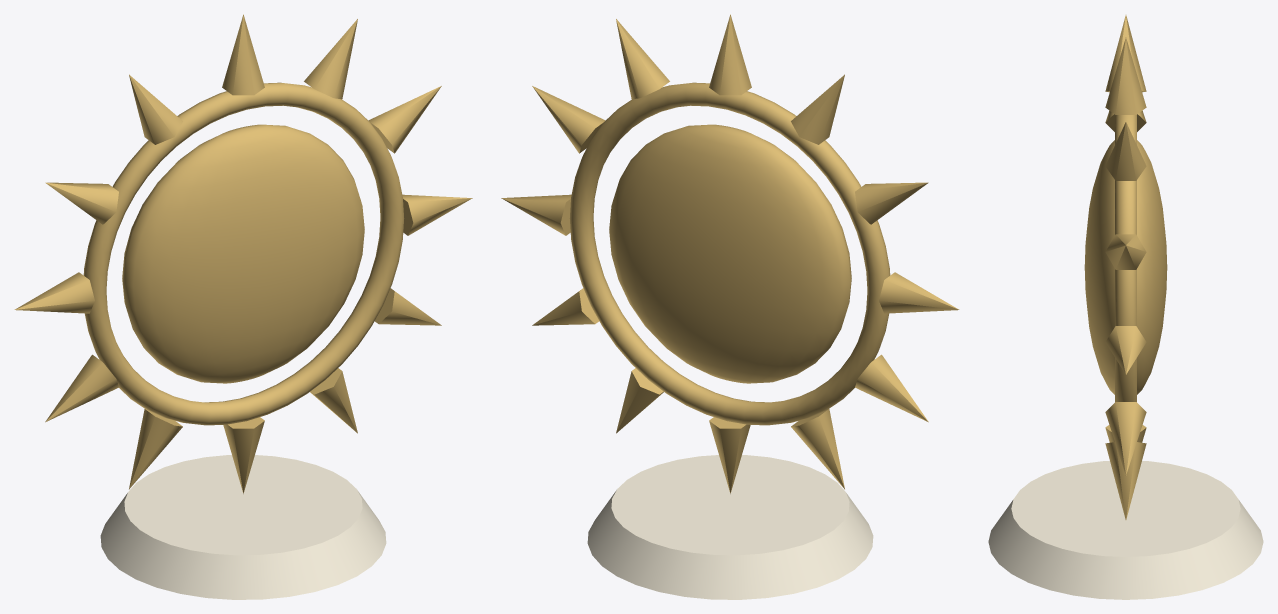
File: sun.glb
The picture shows the model from 3 angles, left to right: view 1: azimuth 30°, elevation 25°; view 2: azimuth 150°, elevation 25°; view 3: azimuth 270°, elevation 25°; orthographic projection. The views are drawn at different scales.
Size of the model in its own units: 1.11 by 1.21 by 0.6.
